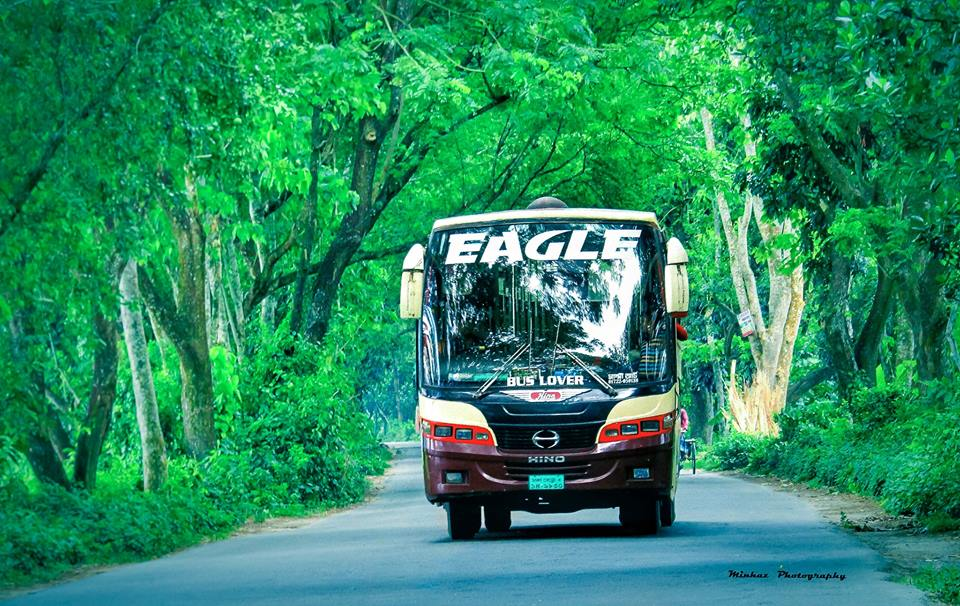bus: (405, 214, 687, 539)
